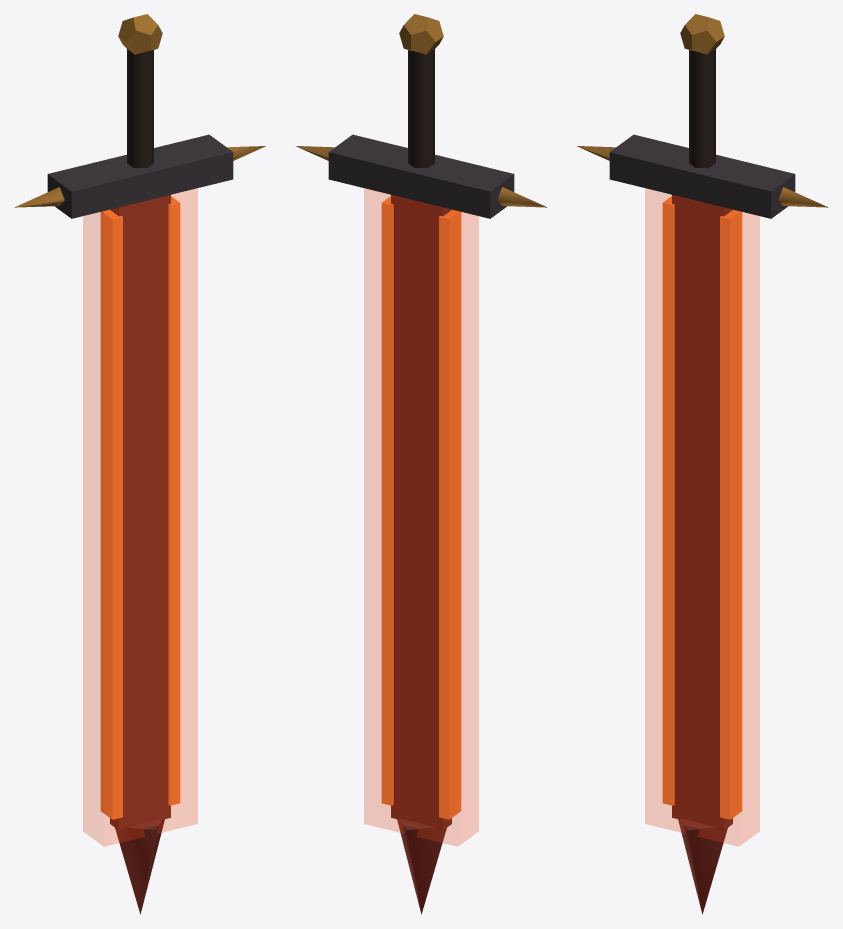
File: BO_SM_BossWeapon_Greatsword_v001.glb
3 views of the same model, side by side, from view 1: azimuth 30°, elevation 25°; view 2: azimuth 150°, elevation 25°; view 3: azimuth 330°, elevation 25° (orthographic).
Visible parts, largest first — view 1: glowfx_009, body_005, glow_007, body_002, glow_006, body_000, body_008, body_001, body_004; view 2: glowfx_009, body_005, glow_007, body_002, glow_006, body_000, body_008, body_001, body_004; view 3: glowfx_009, body_005, glow_006, body_002, glow_007, body_000, body_008, body_001, body_003.
Boxes of the visible parts, left/top/right/bottom form: glowfx_009: left=83, top=188, right=197, bottom=846; body_005: left=110, top=194, right=170, bottom=830; glow_007: left=100, top=209, right=122, bottom=819; body_002: left=47, top=134, right=233, bottom=218; glow_006: left=168, top=196, right=180, bottom=805; body_000: left=127, top=49, right=153, bottom=167; body_008: left=115, top=818, right=164, bottom=914; body_001: left=118, top=14, right=162, bottom=54; body_004: left=14, top=187, right=64, bottom=207; glowfx_009: left=364, top=188, right=478, bottom=846; body_005: left=391, top=194, right=451, bottom=830; glow_007: left=439, top=209, right=461, bottom=819; body_002: left=328, top=134, right=514, bottom=218; glow_006: left=381, top=196, right=393, bottom=805; body_000: left=408, top=49, right=434, bottom=167; body_008: left=397, top=818, right=446, bottom=914; body_001: left=399, top=14, right=443, bottom=54; body_004: left=497, top=187, right=547, bottom=207; glowfx_009: left=645, top=188, right=759, bottom=846; body_005: left=672, top=194, right=732, bottom=830; glow_006: left=720, top=209, right=742, bottom=819; body_002: left=609, top=134, right=795, bottom=218; glow_007: left=662, top=196, right=674, bottom=805; body_000: left=689, top=49, right=715, bottom=167; body_008: left=678, top=818, right=727, bottom=914; body_001: left=680, top=14, right=724, bottom=54; body_003: left=778, top=187, right=828, bottom=207.
Bounding box in the file's own units: 0.97 × 3.3 × 0.2.
